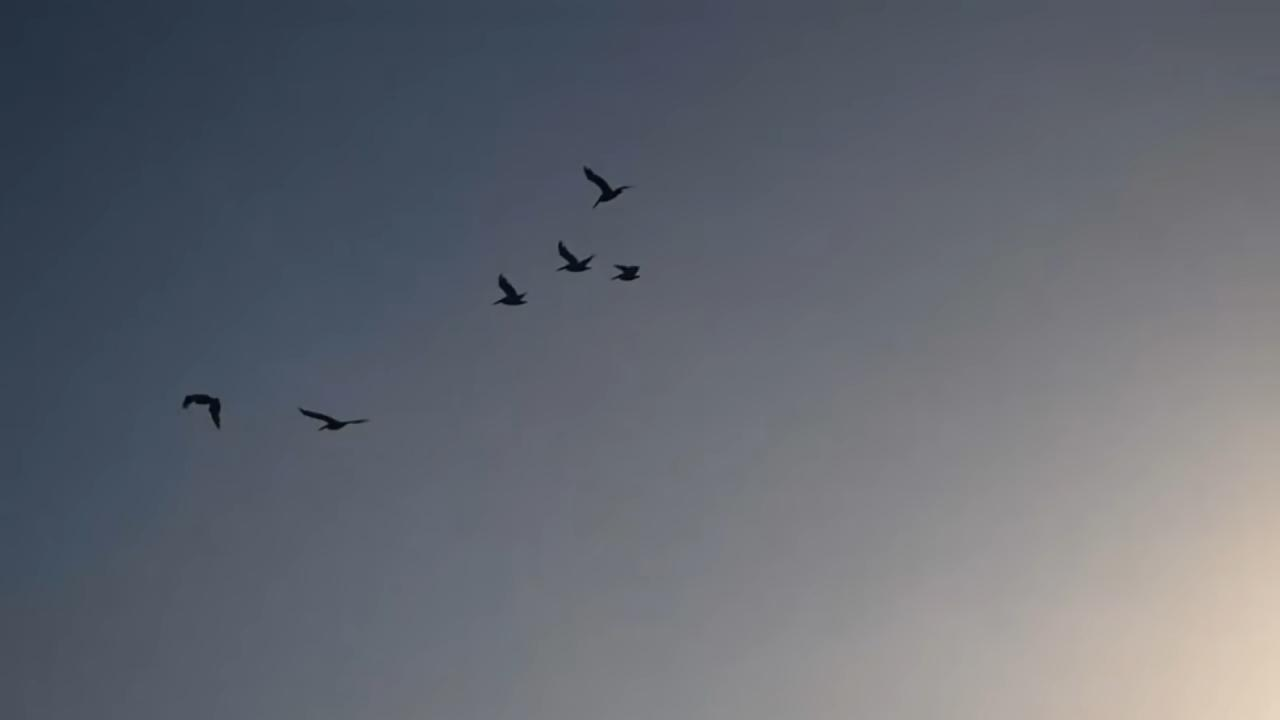Bird: (291, 397, 379, 444), (575, 161, 641, 215), (171, 384, 238, 436), (550, 234, 600, 286), (483, 268, 537, 316), (606, 255, 654, 289)
